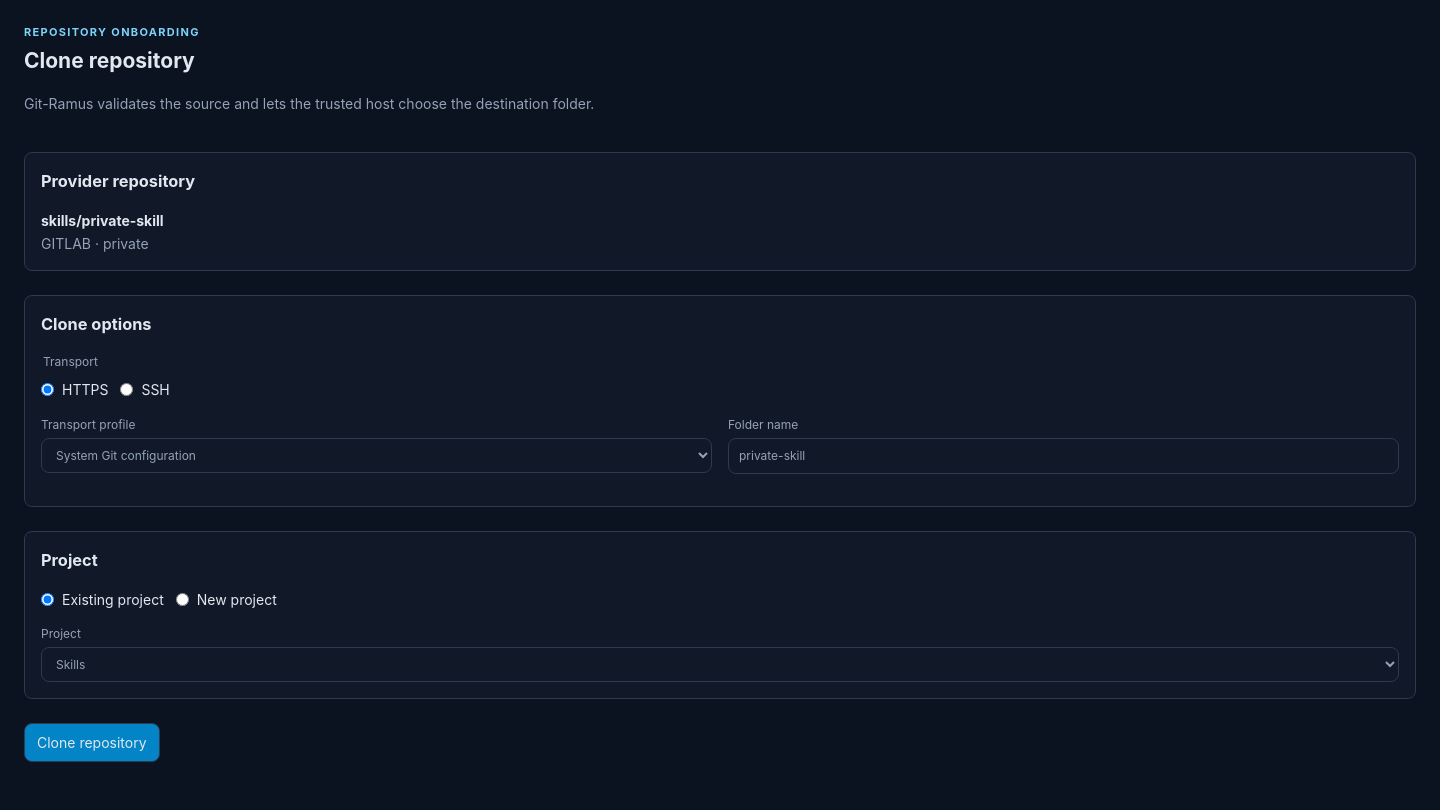
Test: CloneView › treats trusted prompt cancellation as a recoverable user choice
Expected: the text "skills/private-skill" is shown, x1=41 y1=212 x2=164 y2=229
Select "Skills" in the dropdown labelled "Project" at (720, 665), box x1=41 y1=647 x2=1399 y2=682
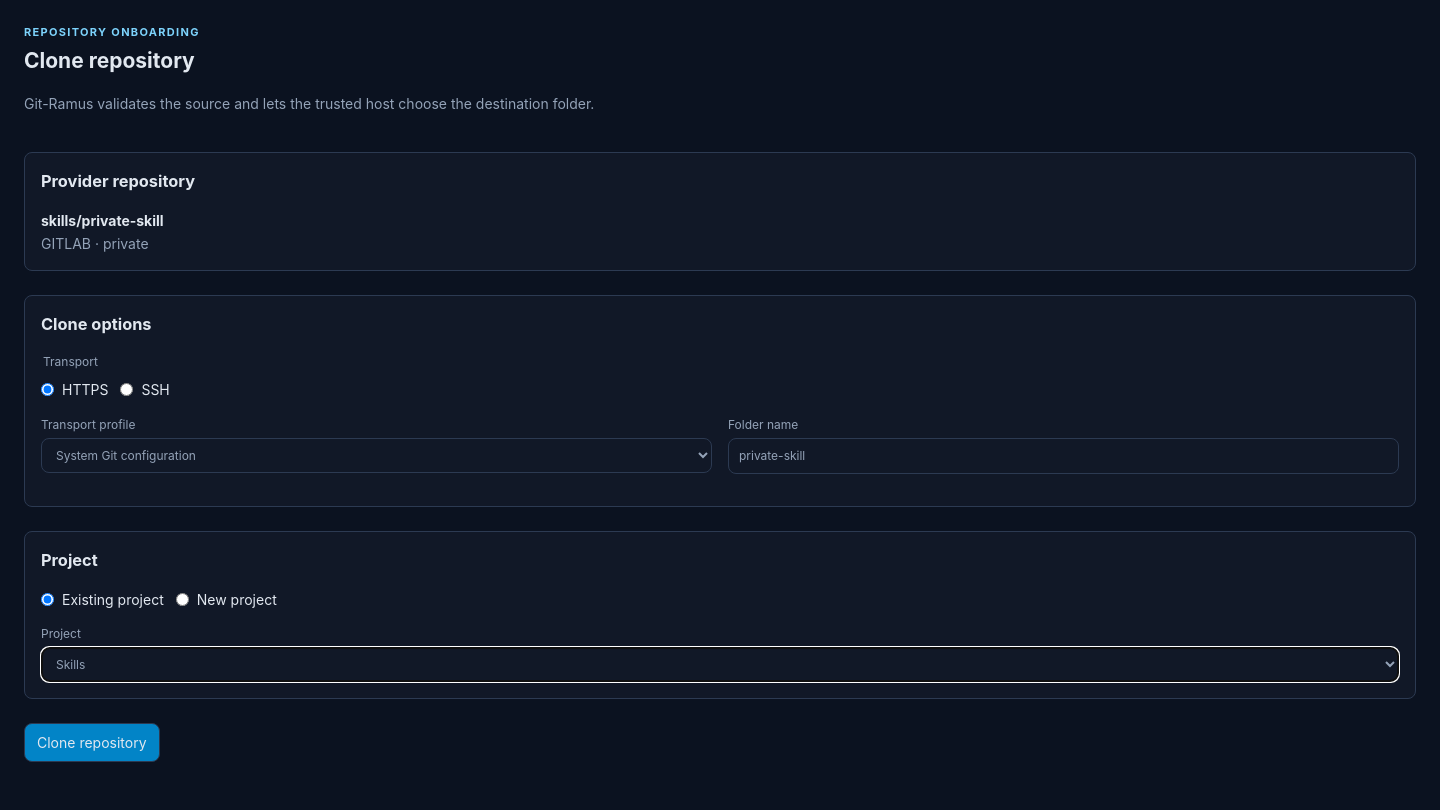
Click the button "Clone repository".
click(92, 743)  # box x1=24 y1=723 x2=160 y2=762
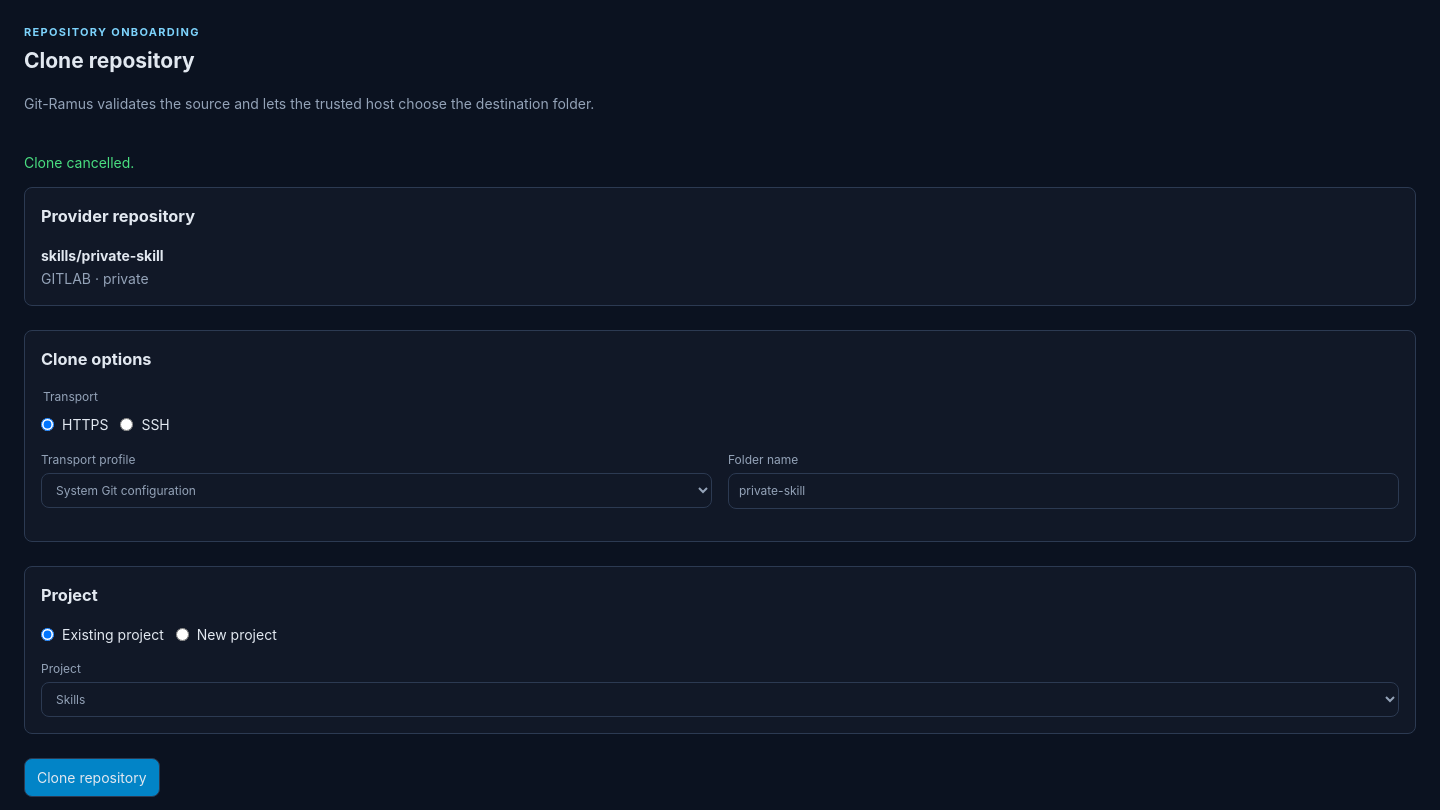
Expected: the button "Clone repository" is enabled, x1=24 y1=758 x2=160 y2=797
Expected: the text "Clone cancelled." is shown, x1=24 y1=154 x2=134 y2=171
